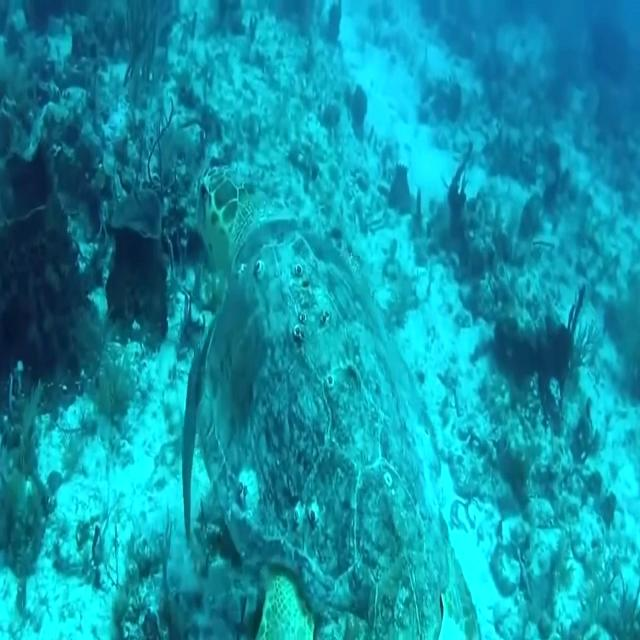Sea turtle: (185, 157, 483, 640)
